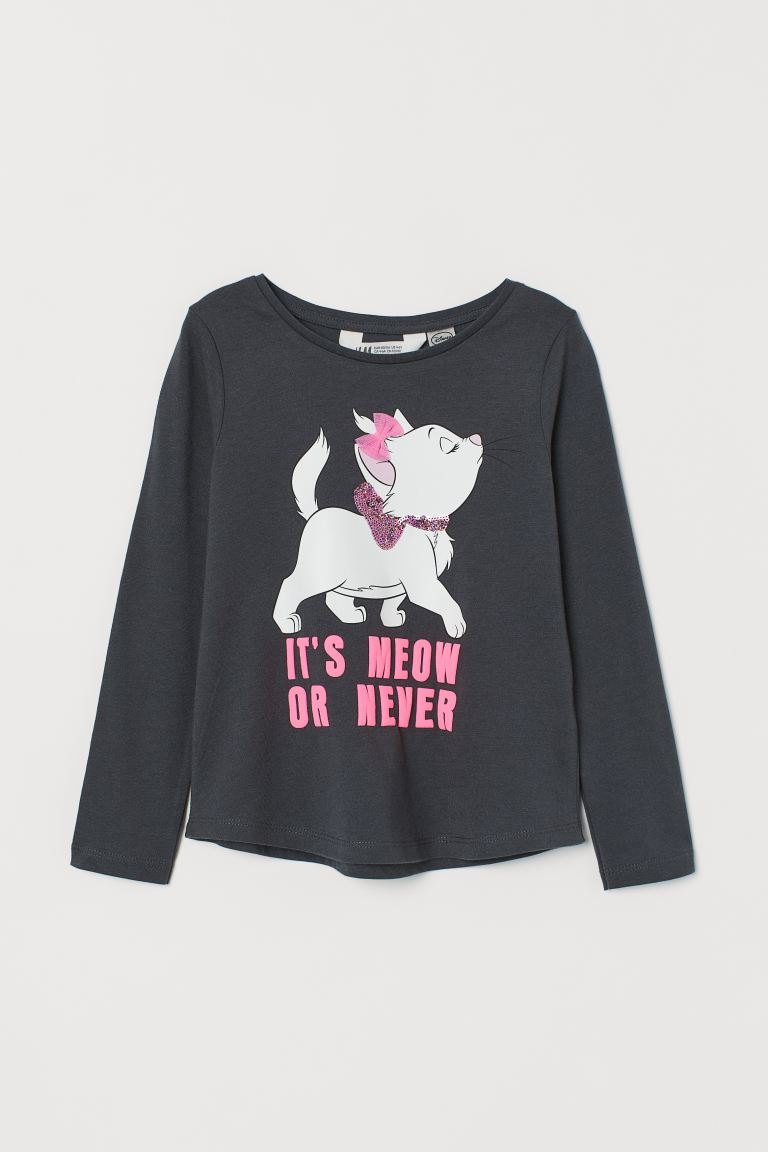cat: (261, 398, 503, 639)
